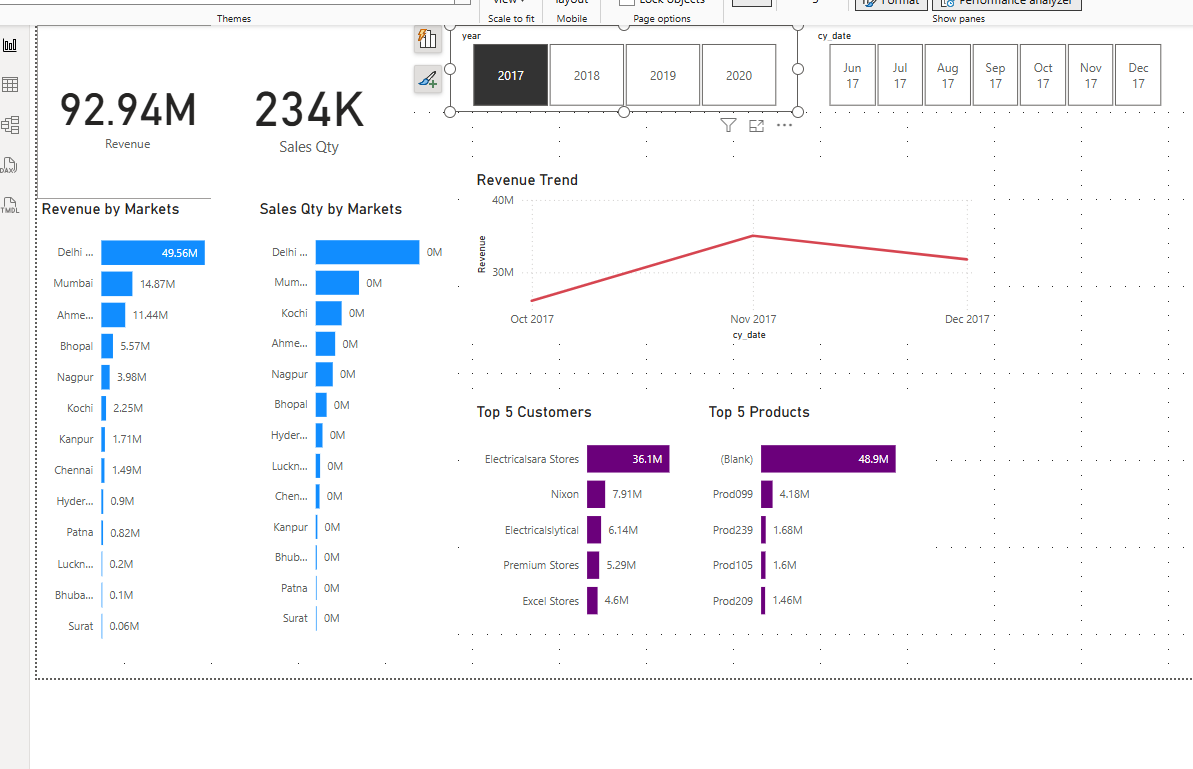

The page's visual inventory and layout, read from the dashboard file:
{"tool":"powerbi","page":{"name":"Page 2","canvas":[1280,720],"ordinal":1},"visuals":[{"type":"card","fields":{"Values":["BaseMeasures.Revenue"]},"box":[0,0,200,192],"z":0},{"type":"card","fields":{"Values":["BaseMeasures.Sales Qty"]},"box":[192,0,216,192],"z":1000},{"type":"barChart","title":"Revenue by Markets","fields":{"Y":["BaseMeasures.Revenue"],"Category":["sales markets.markets_name"]},"box":[0,192,232,504],"z":2000},{"type":"barChart","title":"Sales Qty by Markets","fields":{"Y":["BaseMeasures.Sales Qty"],"Category":["sales markets.markets_name"]},"box":[240,192,216,504],"z":3000},{"type":"slicer","fields":{"Values":["sales date.year"]},"box":[456,0,384,96],"z":4000},{"type":"slicer","fields":{"Values":["sales date.cy_date"]},"box":[848,0,416,96],"z":5000},{"type":"barChart","title":"Top 5 Customers","fields":{"Y":["BaseMeasures.Revenue"],"Category":["sales customers.custmer_name"]},"box":[480,416,256,256],"z":6000},{"type":"barChart","title":"Top 5 Products","fields":{"Y":["BaseMeasures.Revenue"],"Category":["sales products.product_code"]},"box":[736,416,256,256],"z":7000},{"type":"lineChart","title":"Revenue Trend","fields":{"Y":["BaseMeasures.Revenue"],"Category":["sales date.cy_date"]},"box":[480,160,576,192],"z":8000}]}

Visuals, with their boxes on the page's 1280x720 design canvas (x1, y1, x2, y2). These are canvas units, not pixel positions in the 1193x769 screenshot, which may show the page scaled, cropped or inside an application window:
card - BaseMeasures.Revenue: locate(0, 0, 200, 192)
card - BaseMeasures.Sales Qty: locate(192, 0, 408, 192)
"Revenue by Markets" barChart: locate(0, 192, 232, 696)
"Sales Qty by Markets" barChart: locate(240, 192, 456, 696)
slicer - sales date.year: locate(456, 0, 840, 96)
slicer - sales date.cy_date: locate(848, 0, 1264, 96)
"Top 5 Customers" barChart: locate(480, 416, 736, 672)
"Top 5 Products" barChart: locate(736, 416, 992, 672)
"Revenue Trend" lineChart: locate(480, 160, 1056, 352)
